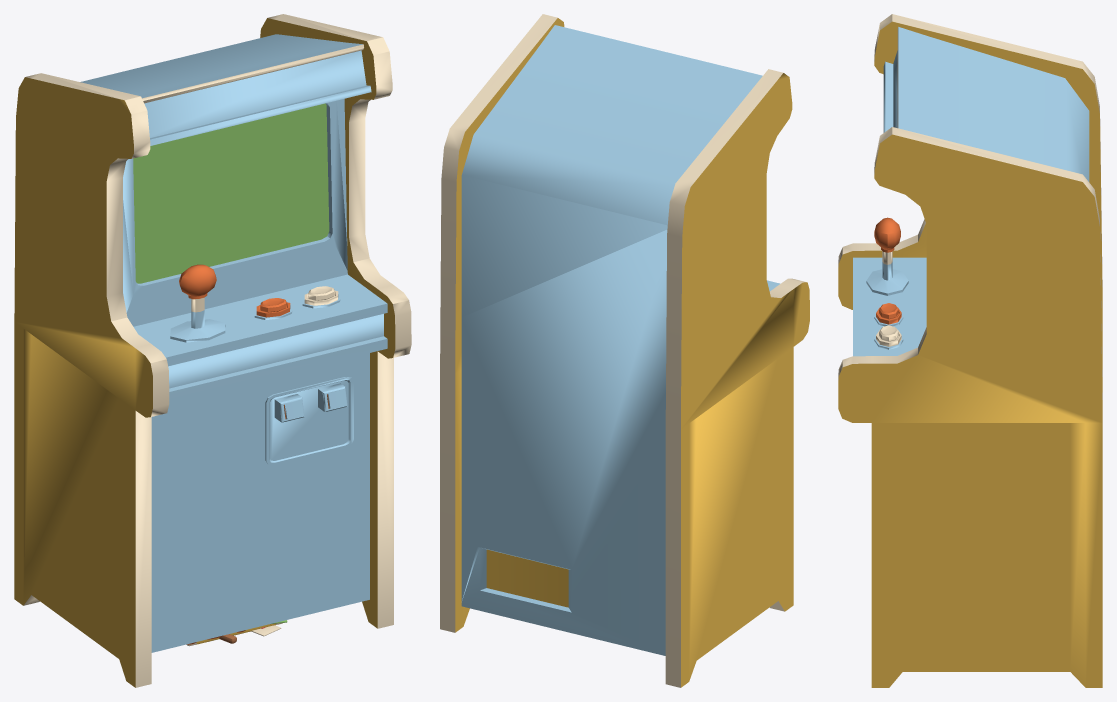
Rendered from interest_game_v3_8.glb.
3 renders of one model, left to right at view 1: azimuth 30°, elevation 25°; view 2: azimuth 150°, elevation 25°; view 3: azimuth 270°, elevation 25°, orthographic. The views are drawn at different scales.
Visible parts, largest first — view 1: arcade_cabinet, arcade_screen; view 2: arcade_cabinet; view 3: arcade_cabinet.
Boxes of the visible parts, x1,y1,x2,y2 form: arcade_cabinet: (14, 14, 411, 687); arcade_screen: (133, 103, 329, 283); arcade_cabinet: (440, 14, 809, 687); arcade_cabinet: (838, 14, 1102, 687).
Bounding box in the file's own units: 0.7 × 1.5 × 0.65.
